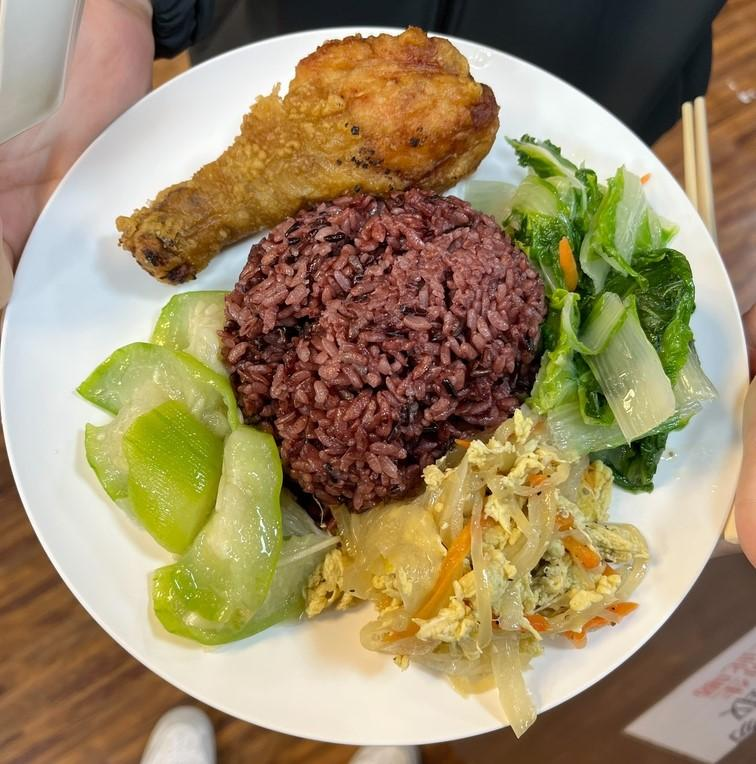big fried chicken leg: (9, 17, 748, 743)
braised fish: (222, 175, 549, 507)
braised fish fillet: (319, 414, 649, 715), (72, 295, 337, 639), (507, 130, 712, 502)
braised pork: (102, 20, 509, 294)
